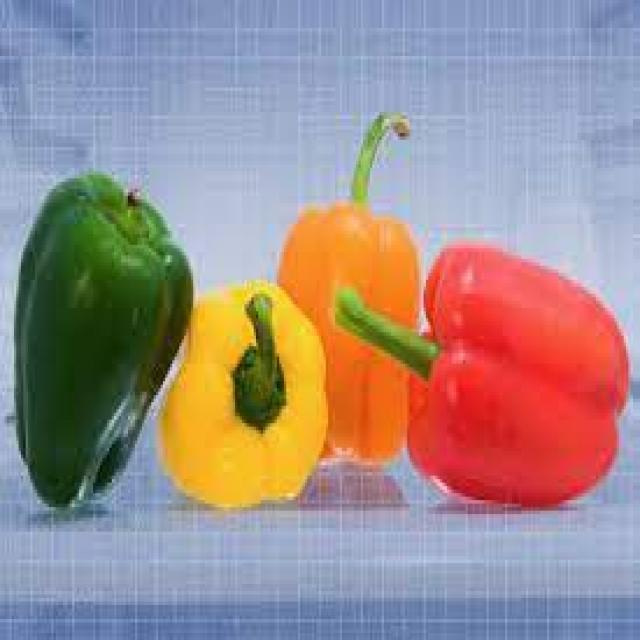Pepper: (12, 172, 195, 515), (406, 244, 631, 510), (276, 172, 424, 469), (160, 282, 326, 510)
